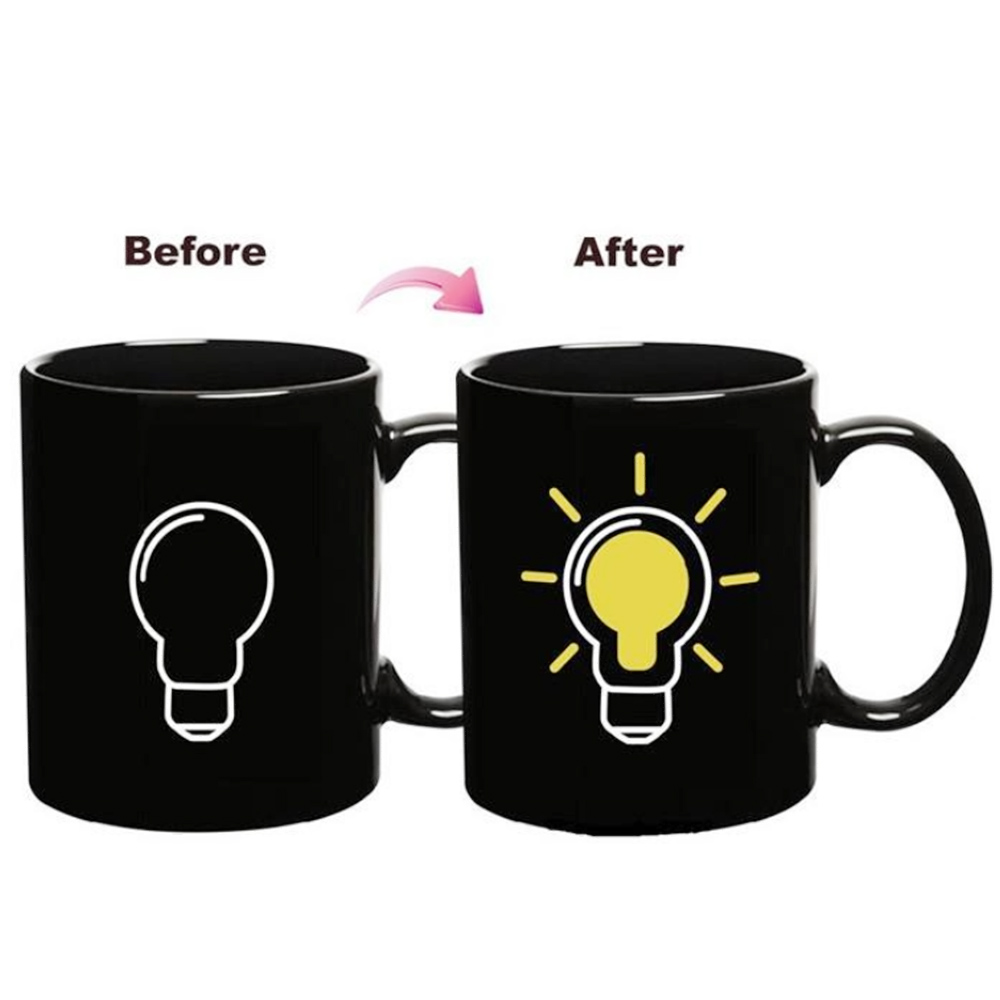gelas: (435, 335, 997, 879), (12, 335, 458, 834)
